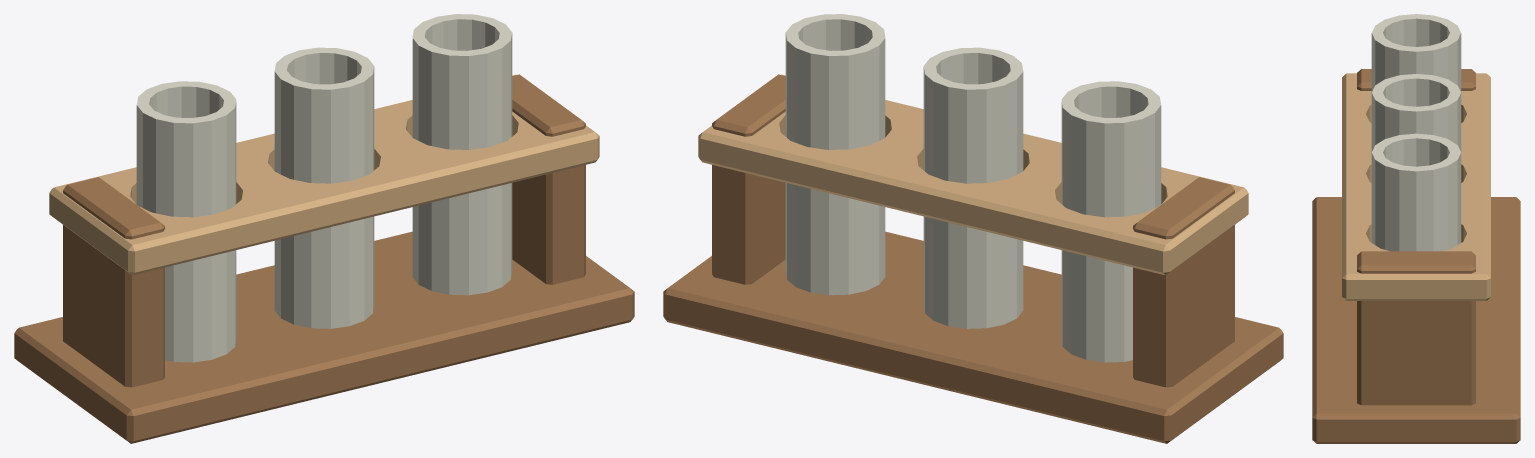
The picture shows the model from 3 angles, left to right: view 1: azimuth 30°, elevation 25°; view 2: azimuth 150°, elevation 25°; view 3: azimuth 270°, elevation 25°; orthographic projection. The views are drawn at different scales.
Visible parts, largest first — view 1: laboratory-sample-rack-01; view 2: laboratory-sample-rack-01; view 3: laboratory-sample-rack-01.
Part boxes in pixels (left/top/right/bottom): laboratory-sample-rack-01: left=14, top=14, right=634, bottom=443; laboratory-sample-rack-01: left=663, top=14, right=1283, bottom=443; laboratory-sample-rack-01: left=1312, top=14, right=1520, bottom=443.
Bounding box in the file's own units: 0.7 × 0.36 × 0.28.
